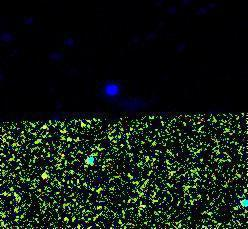star: (32, 162, 62, 192)
